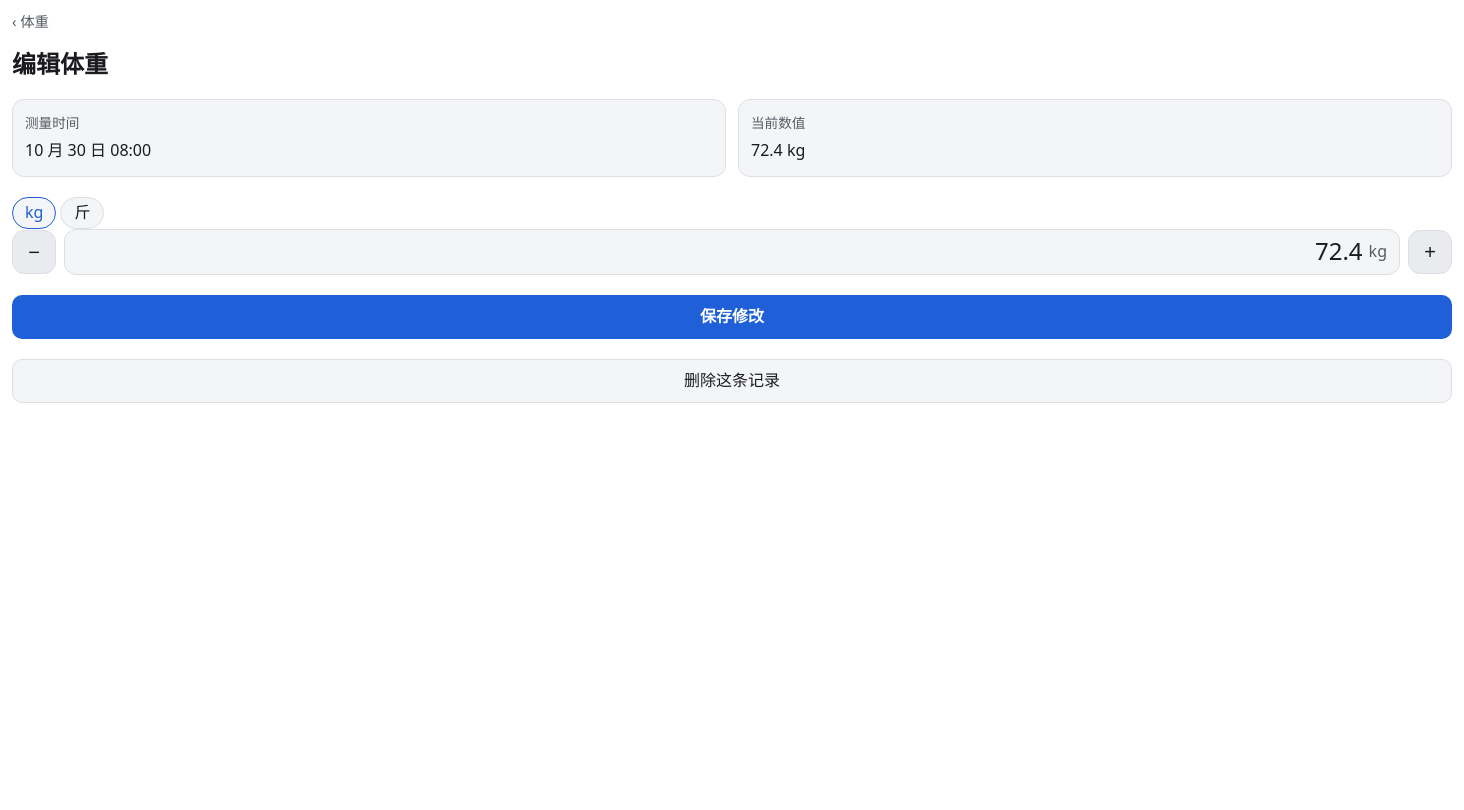
Test: 编辑页 › 改值保存后明细同步，测量时刻不变
Expected: the text "测量时间" is shown, [25,113,79,132]
Replace the text in the field named "体重" with "72.6" at [721, 252], box [77,230,1365,274]
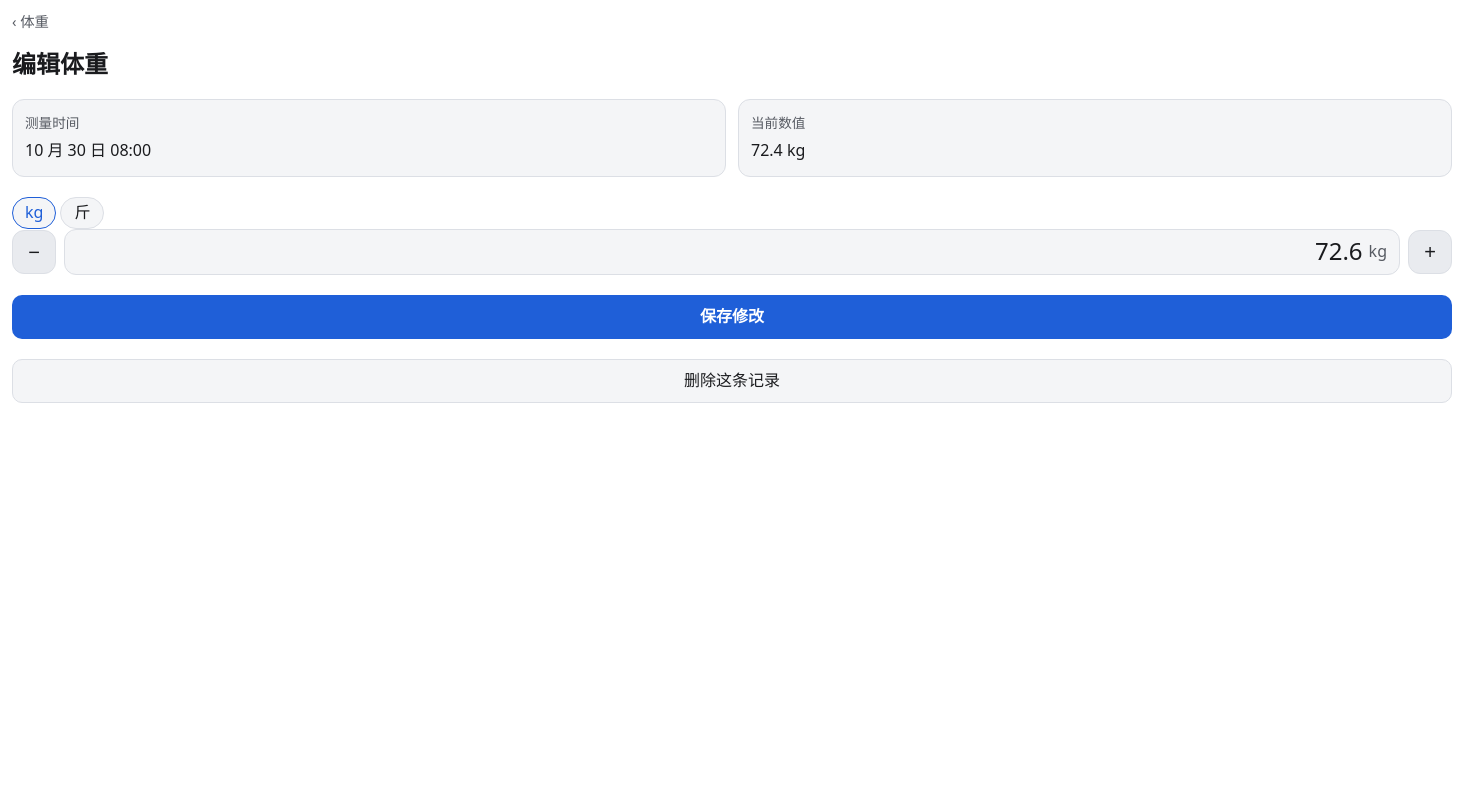
Click the button "保存修改" at [732, 316], box [12,294,1452,338]
(page scrolled)
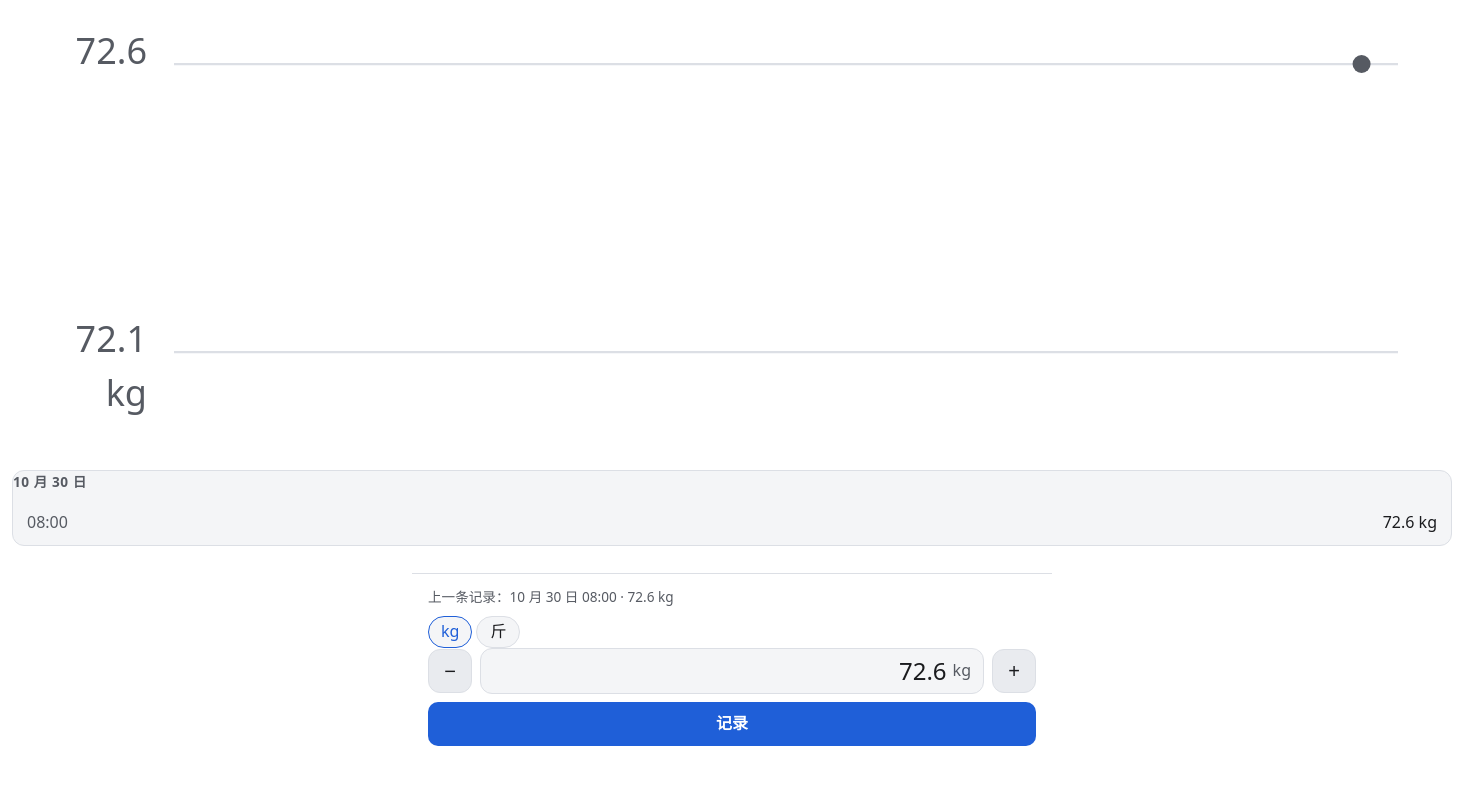
Expected: the text "72.6 kg" is shown, [1383,510,1437,535]
